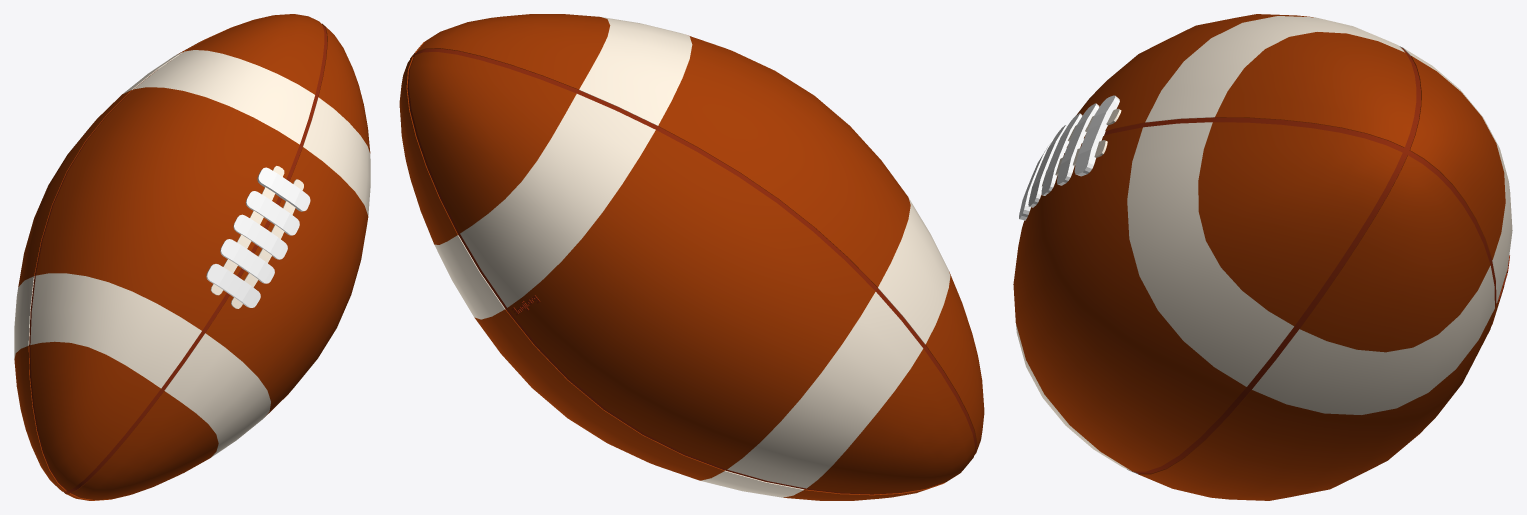
Rendered from american_football.fbx.
The picture shows the model from 3 angles, left to right: view 1: azimuth 30°, elevation 25°; view 2: azimuth 150°, elevation 25°; view 3: azimuth 270°, elevation 25°; orthographic projection. The views are drawn at different scales.
Visible parts, largest first — view 1: Cube.812; view 2: Cube.812; view 3: Cube.812.
Boxes of the visible parts, left/top/right/bottom form: Cube.812: left=14, top=14, right=370, bottom=500; Cube.812: left=399, top=14, right=984, bottom=500; Cube.812: left=1013, top=14, right=1512, bottom=500.
Bounding box in the file's own units: 230 × 215 × 181.
1 material, 1 textured.
